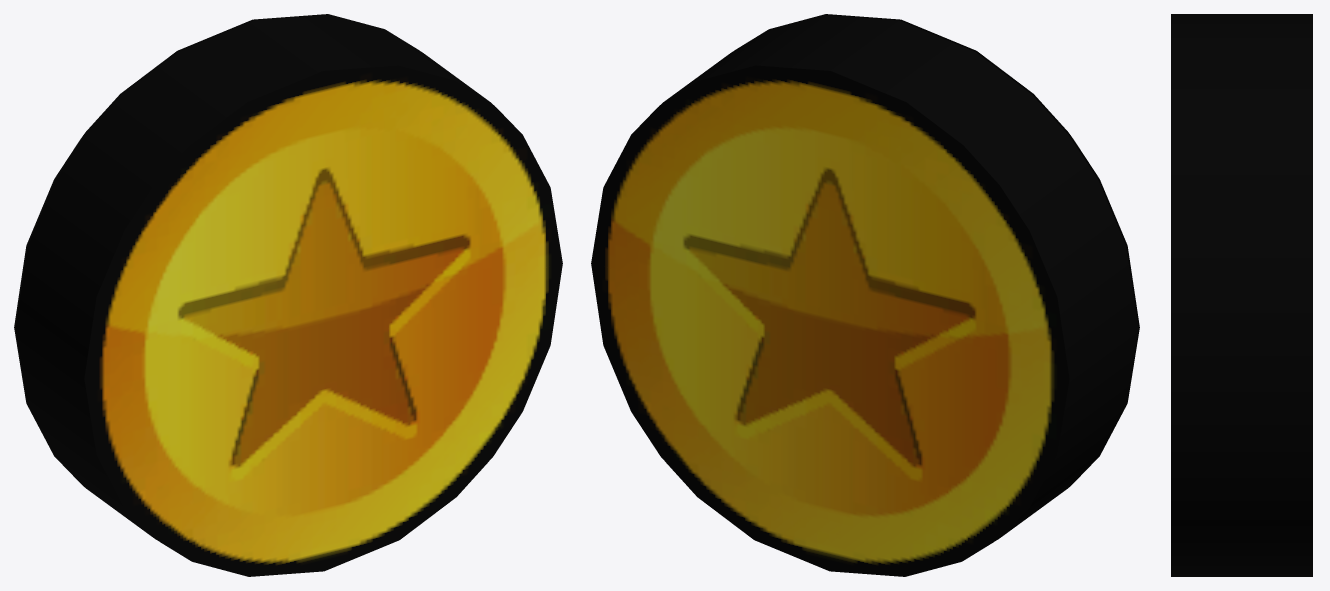
Rendered from secret-coin.obj.
The picture shows the model from 3 angles, left to right: view 1: azimuth 30°, elevation 25°; view 2: azimuth 150°, elevation 25°; view 3: azimuth 270°, elevation 25°; orthographic projection. The views are drawn at different scales.
Parts seen in each view (by area): view 1: Secret2, Secret1, Secret3; view 2: Secret3, Secret1, Secret2; view 3: Secret1.
Part boxes in pixels (left/top/right/bottom): Secret2: left=85, top=66, right=562, bottom=576; Secret1: left=15, top=15, right=490, bottom=538; Secret3: left=14, top=14, right=416, bottom=486; Secret3: left=591, top=66, right=1068, bottom=576; Secret1: left=663, top=15, right=1138, bottom=538; Secret2: left=737, top=14, right=1139, bottom=486; Secret1: left=1171, top=14, right=1312, bottom=576.
Size of the model in its own units: 4 by 4 by 1.04.
